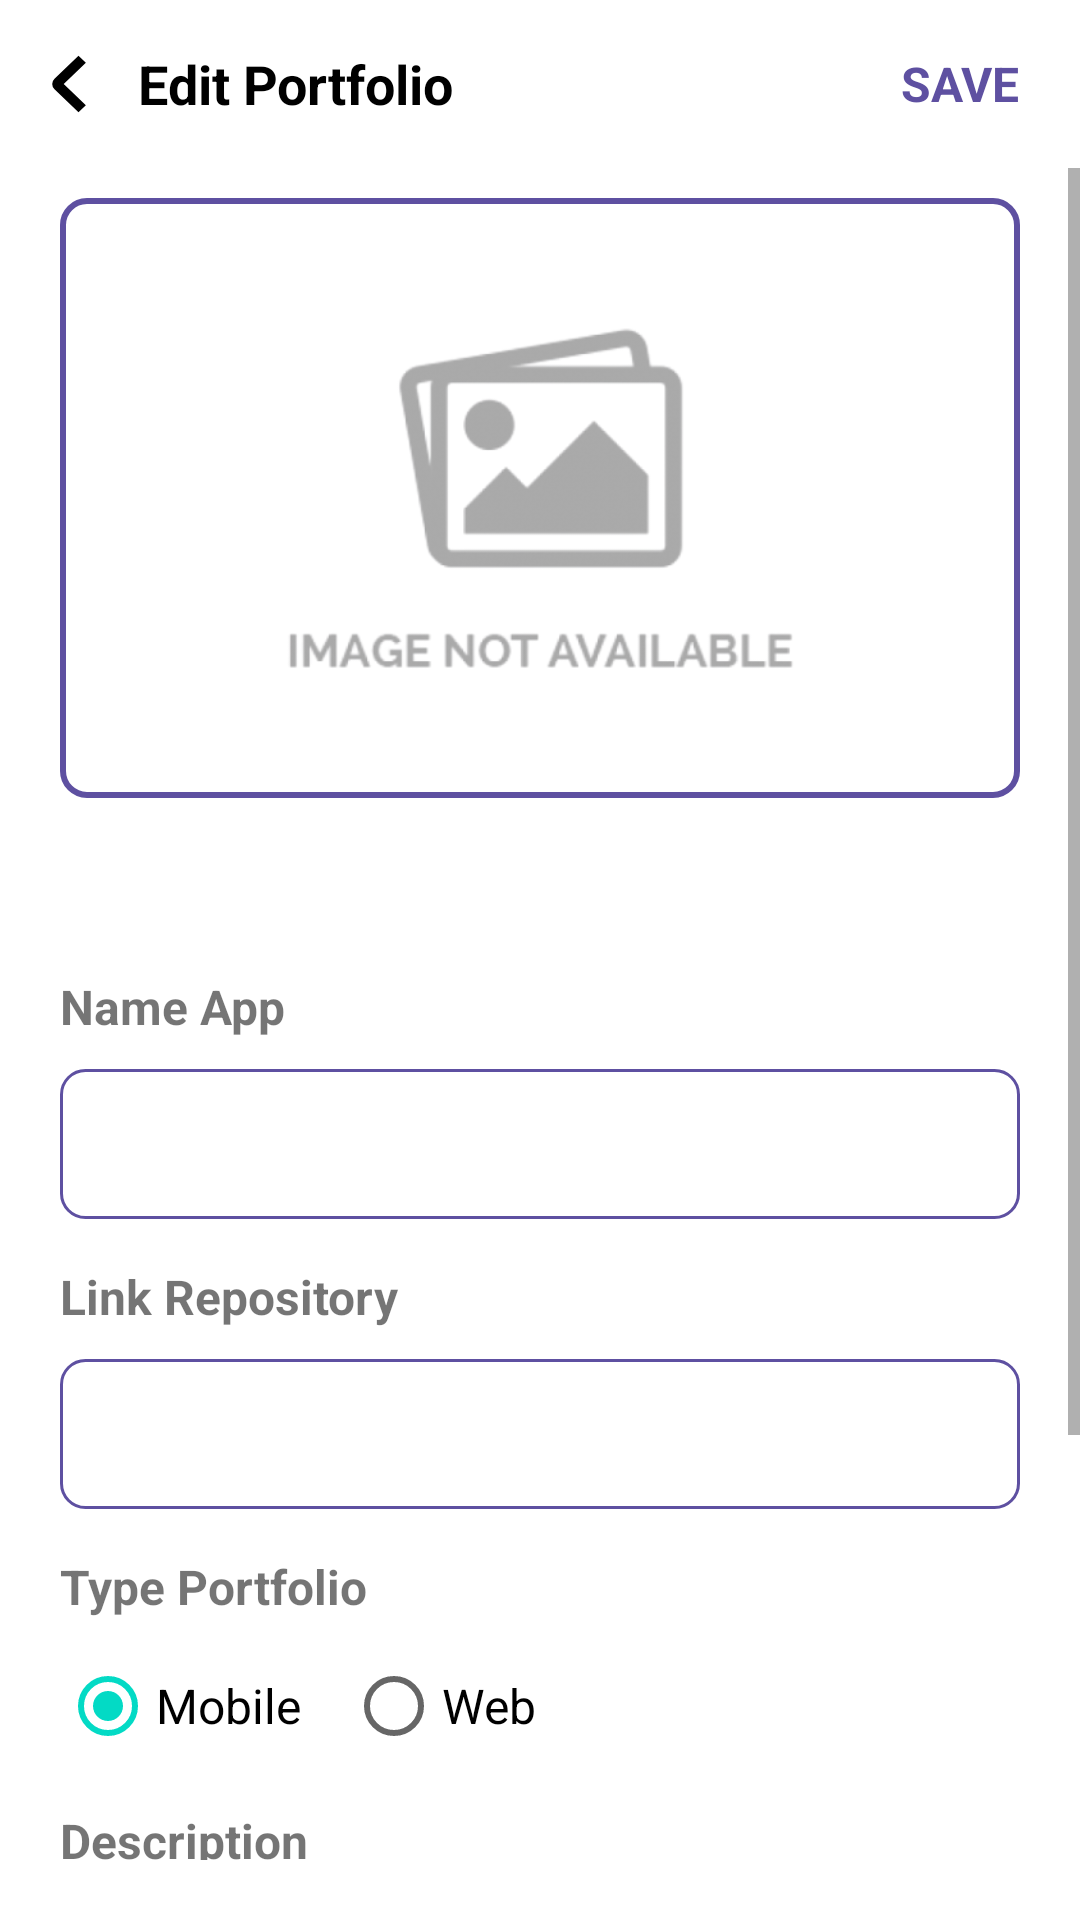

Point at icon controls on the screen. Image size 1080×1920, points as (x=x, y=y).
btnback: (x=69, y=84)
